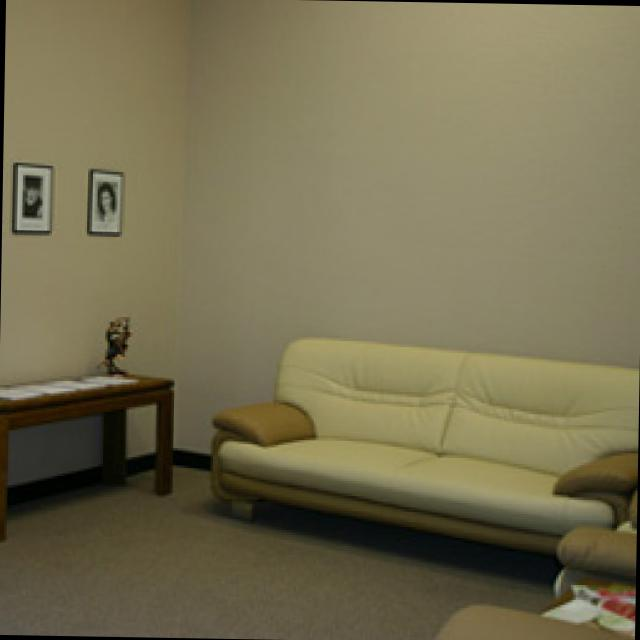armchair occluded: (429, 525, 631, 638)
floor -X: (0, 460, 633, 640)
picture crop: (9, 157, 50, 228), (84, 166, 120, 231)
sofa bed: (207, 332, 634, 557)
table -X: (0, 366, 170, 534)
wall clock: (170, 0, 640, 555)
